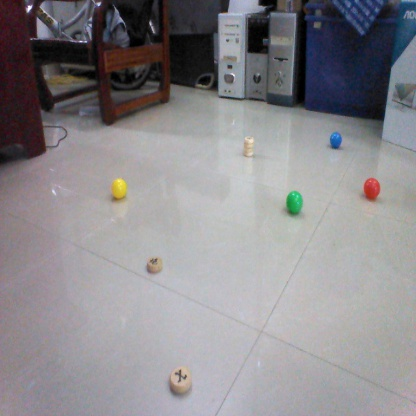ball: (109, 177, 131, 198), (284, 191, 306, 212), (361, 177, 383, 198), (327, 129, 344, 150)
chess: (167, 369, 195, 395), (144, 253, 162, 275), (243, 134, 256, 162)
